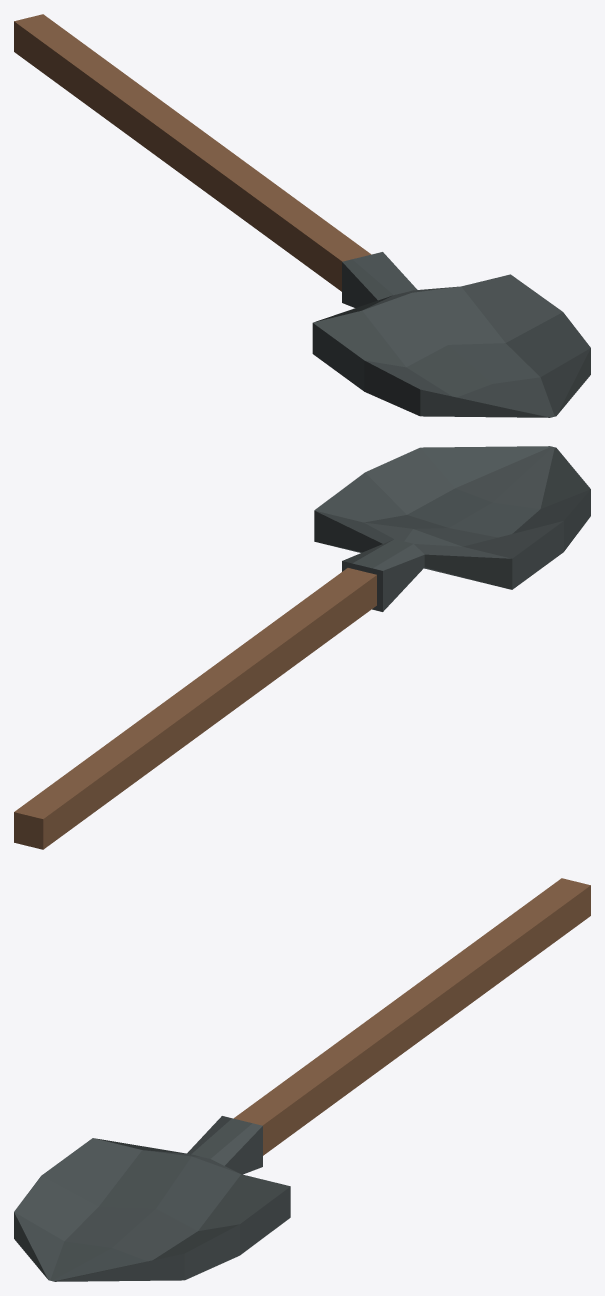
Rendered from Shovel_1_Light_Brown.fbx.
3 renders of one model, top to bottom at view 1: azimuth 30°, elevation 25°; view 2: azimuth 150°, elevation 25°; view 3: azimuth 330°, elevation 25°, orthographic.
Visible parts, largest first — view 1: Shovel_1_Light_Brown; view 2: Shovel_1_Light_Brown; view 3: Shovel_1_Light_Brown.
Part boxes in pixels (x1,y1,x2,y2): Shovel_1_Light_Brown: (14, 14, 590, 417); Shovel_1_Light_Brown: (14, 446, 590, 849); Shovel_1_Light_Brown: (14, 878, 590, 1281).
Size of the model in its own units: 67.99 by 13.69 by 311.
